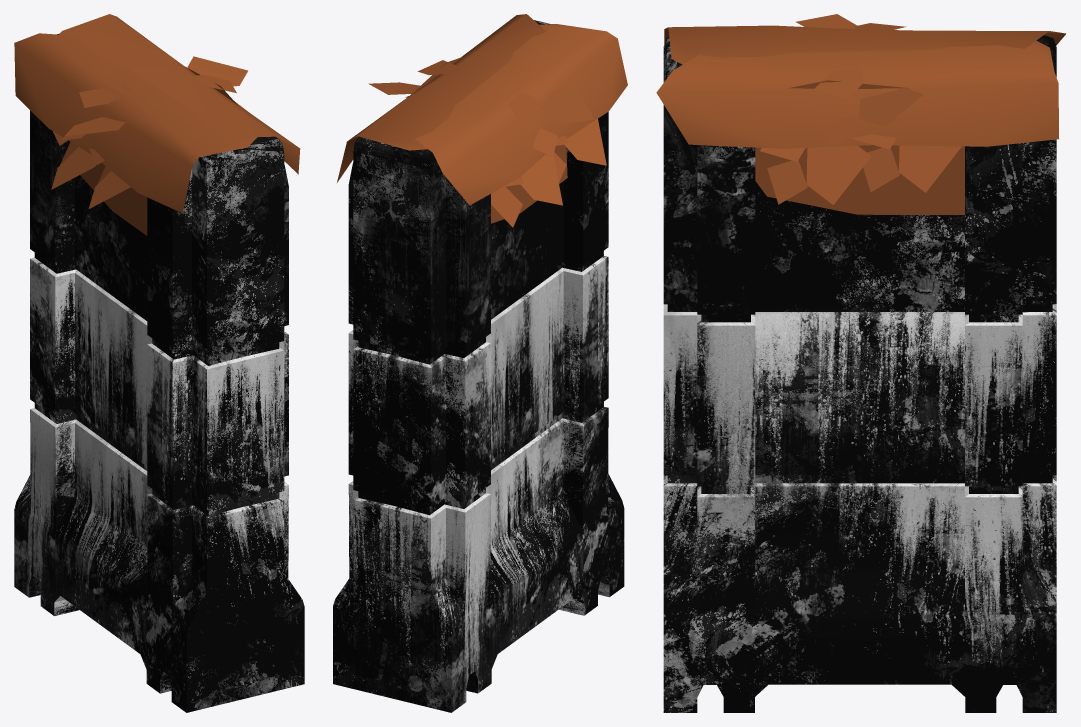
The model's file is OutsideConcreteBlock.FBX.
The picture shows the model from 3 angles, left to right: view 1: azimuth 30°, elevation 25°; view 2: azimuth 150°, elevation 25°; view 3: azimuth 270°, elevation 25°; orthographic projection. The views are drawn at different scales.
Parts seen in each view (by area): view 1: Box328, Gas_Station_Outer_Ivy001; view 2: Box328, Gas_Station_Outer_Ivy001; view 3: Box328, Gas_Station_Outer_Ivy001.
Part boxes in pixels (x1,y1,x2,y2): Box328: (14,34,304,712); Gas_Station_Outer_Ivy001: (14,14,300,235); Box328: (333,20,624,712); Gas_Station_Outer_Ivy001: (337,14,627,227); Box328: (663,35,1056,712); Gas_Station_Outer_Ivy001: (656,14,1065,214).
Size of the model in its own units: 199 by 513 by 302.
